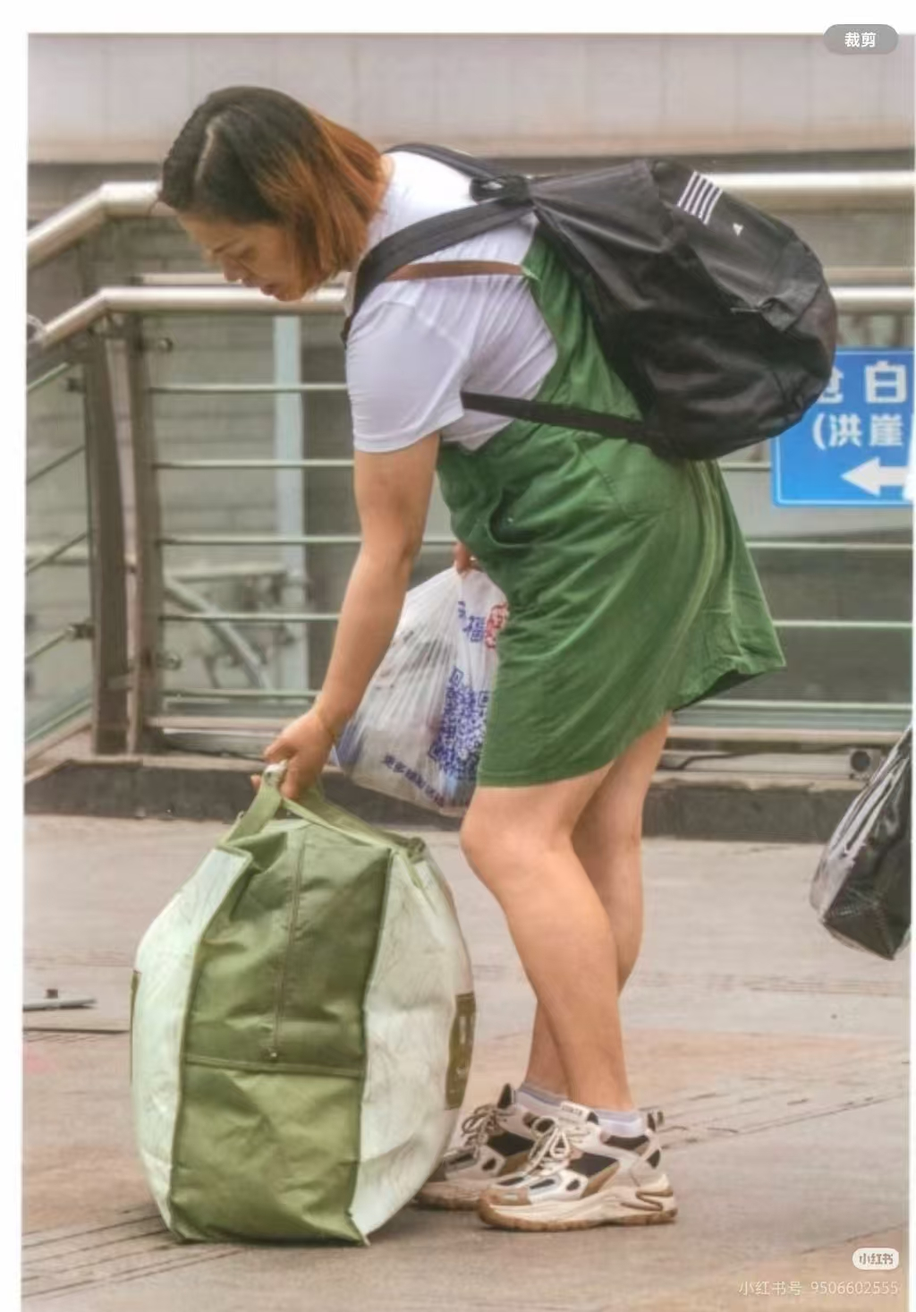bending: (140, 63, 858, 1257)
